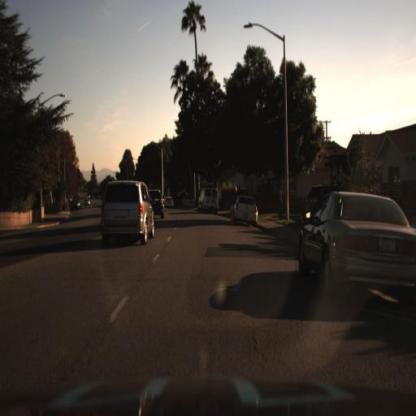car: (296, 191, 416, 307), (96, 176, 160, 247), (299, 174, 334, 223), (232, 192, 260, 226), (197, 186, 222, 217), (70, 200, 81, 215), (82, 196, 92, 211)
